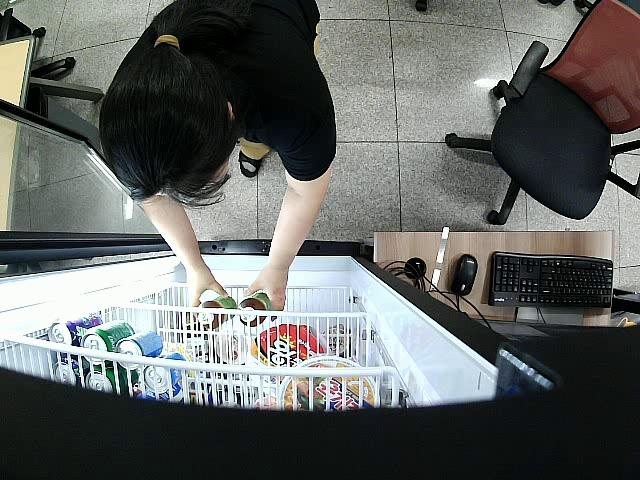00_hand: (249, 267, 289, 311), (187, 275, 232, 311)
19_17cha: (194, 294, 236, 334), (239, 291, 277, 329)
